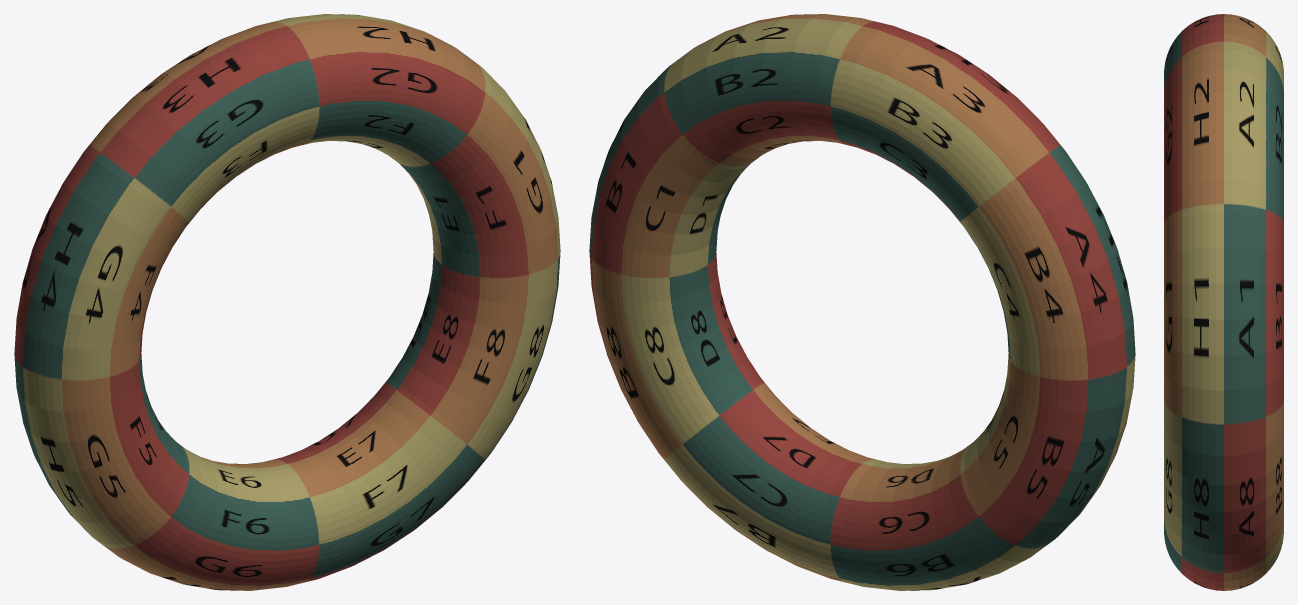
Rendered from texture_torus_R1_r3.glb.
3 renders of one model, left to right at view 1: azimuth 30°, elevation 25°; view 2: azimuth 150°, elevation 25°; view 3: azimuth 270°, elevation 25°, orthographic. The views are drawn at different scales.
Parts seen in each view (by area): view 1: world; view 2: world; view 3: world.
Boxes of the visible parts, bbox=[...] form: world: bbox=[14, 14, 560, 590]; world: bbox=[589, 14, 1135, 590]; world: bbox=[1164, 14, 1283, 590].
Bounding box in the file's own units: 13.47 × 13.44 × 2.79.
Materials: 1 (1 with a texture image).
